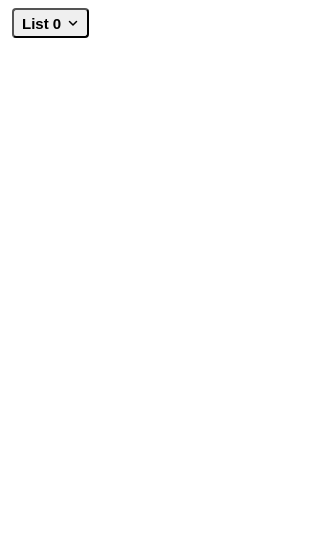
it: Should not offer to duplicate once there are twenty lists
Later steps or results of the test are not shown.
What coordinates should you click on to do the following:
click the button with aria-label "Watchlists"
I would click on:
 (51, 23)
Its box is [12,8,89,38].
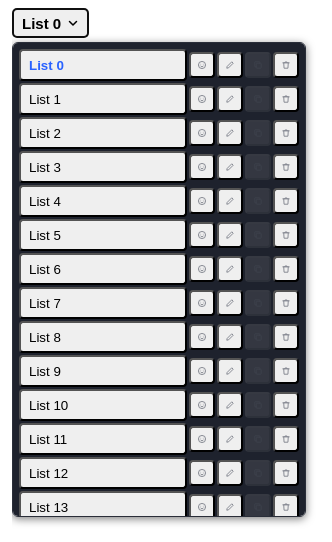
Expected: the button named "Duplicate List 3" is disabled, [245,154,271,180]
